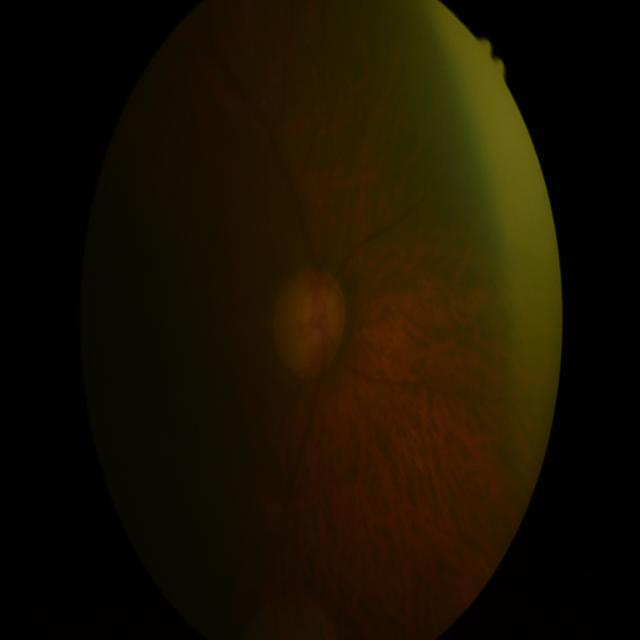cup: (288, 282, 334, 369)
disk: (275, 266, 345, 380)
